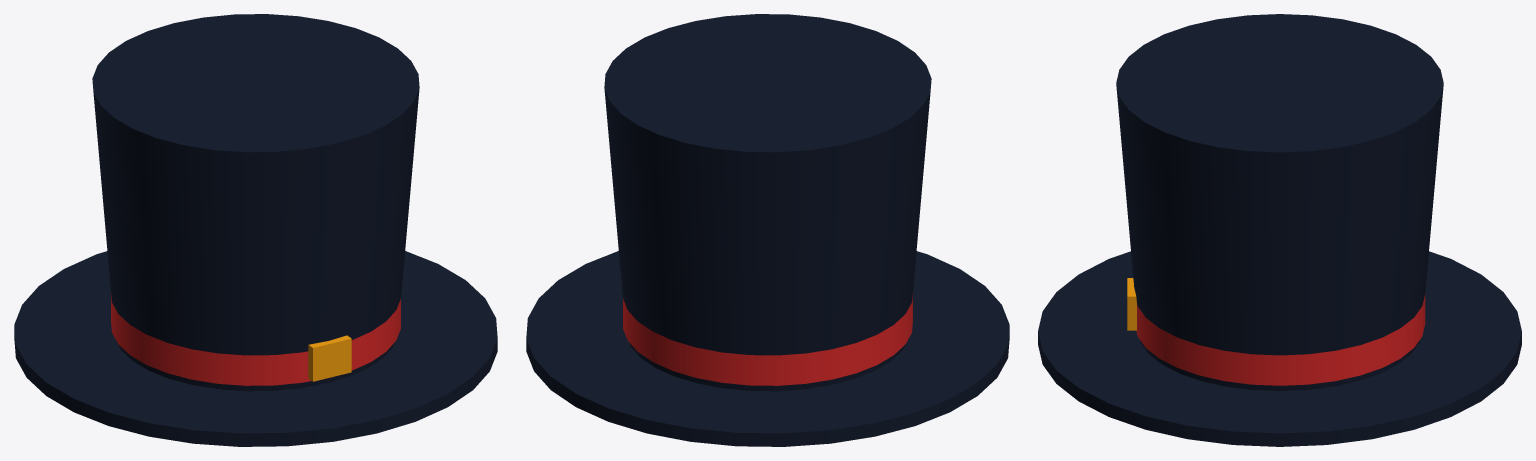
File: top_hat.glb
The picture shows the model from 3 angles, left to right: view 1: azimuth 30°, elevation 25°; view 2: azimuth 150°, elevation 25°; view 3: azimuth 270°, elevation 25°; orthographic projection.
Visible parts, largest first — view 1: TopHat; view 2: TopHat; view 3: TopHat.
Part boxes in pixels (x1,y1,x2,y2): TopHat: [14, 14, 497, 446]; TopHat: [526, 14, 1009, 446]; TopHat: [1038, 14, 1521, 446].
Bounding box in the file's own units: 1.3 × 0.775 × 1.3.
